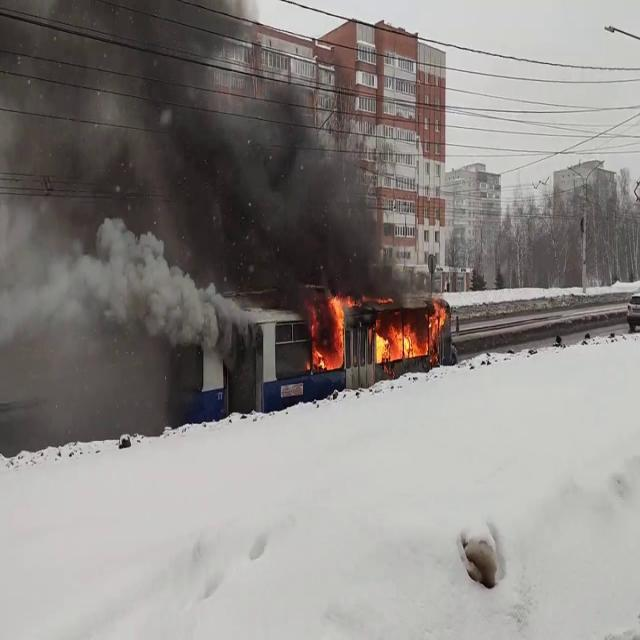Fire: (371, 304, 449, 364), (308, 289, 354, 370)
Smoke: (1, 0, 420, 344)
